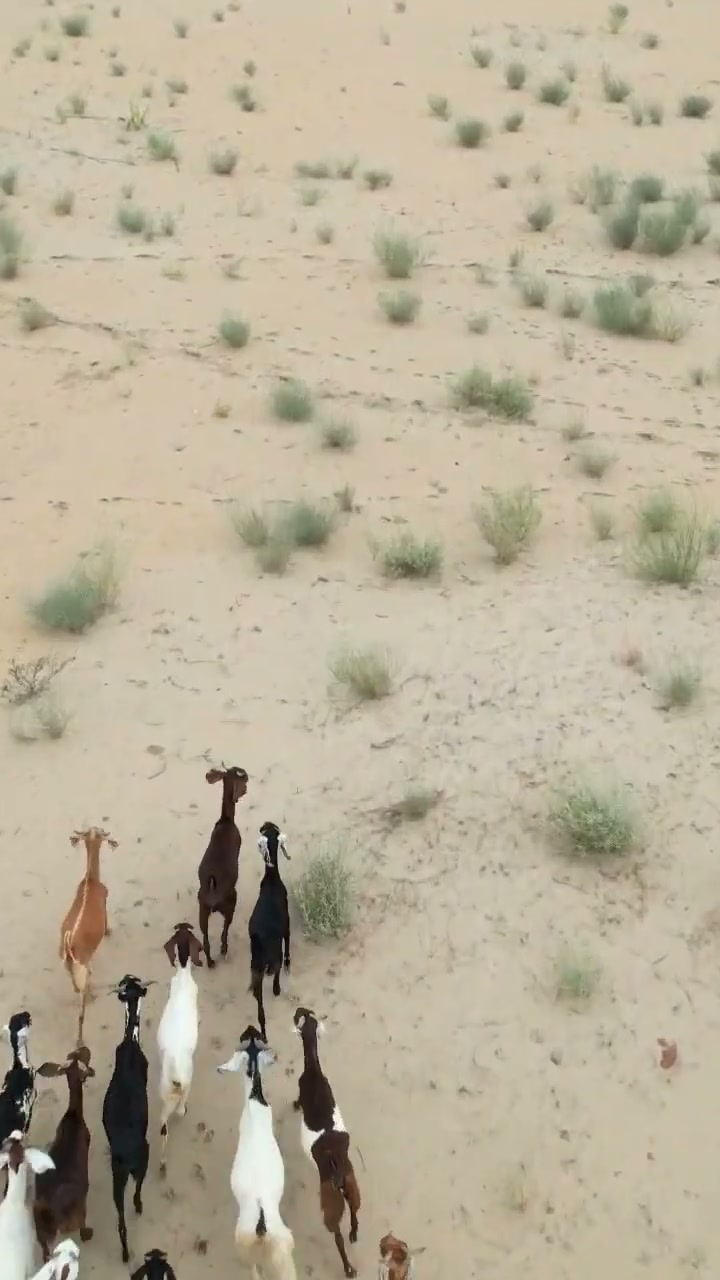animal_foot_print: (148, 947, 239, 1268)
